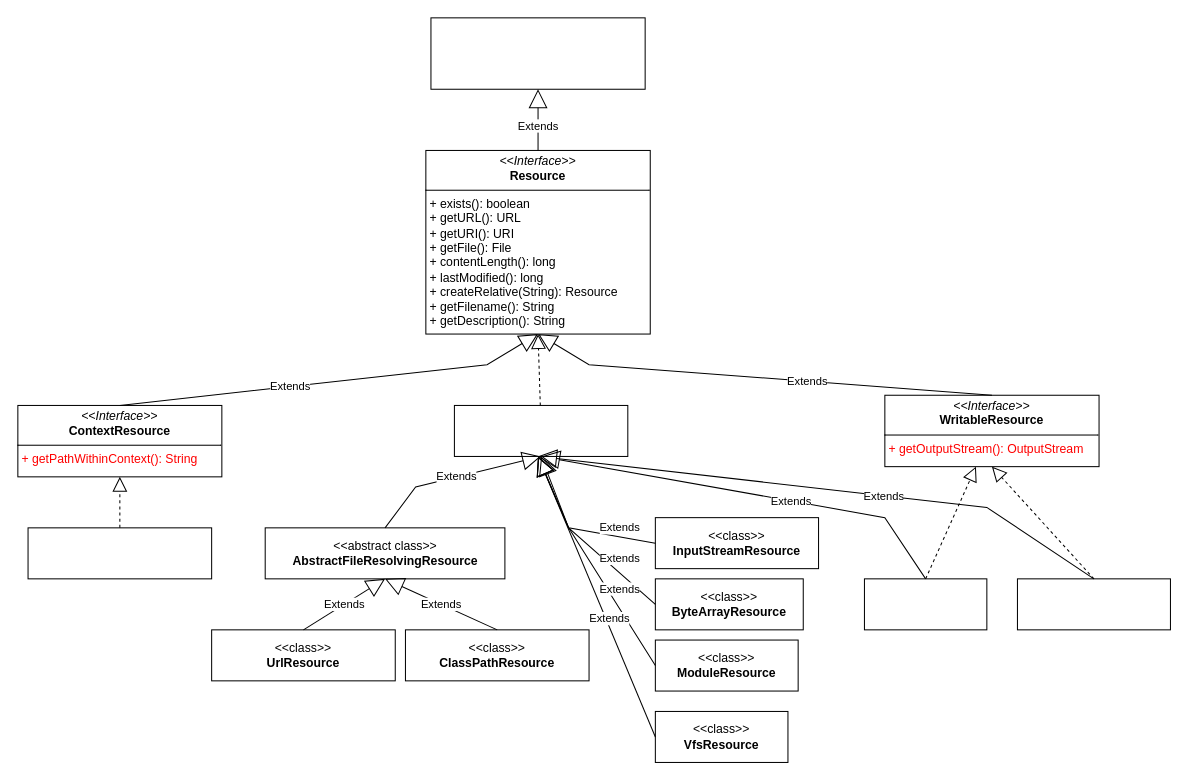
Image size: 1188x780. Some labels were removed from this diagram. Here are the shapes that lost their labels. From the top down, the centre of each, then its label:
pixel 537 53: <<Interface>> InputStreamSource + getInputStream(): InputStream
pixel 540 430: <<abstract class>> AbstractResource
pixel 119 553: <<class>> ServletContextResource
pixel 925 604: <<class>> PathResource
pixel 1093 604: <<class>> FileSystemResource
